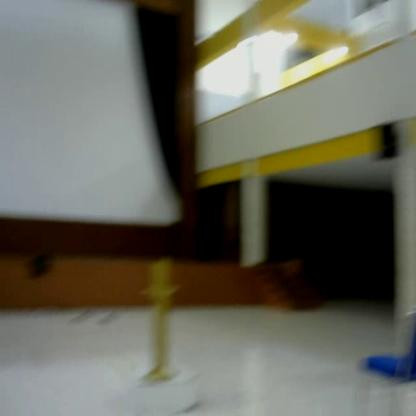pole: (137, 255, 185, 386)
